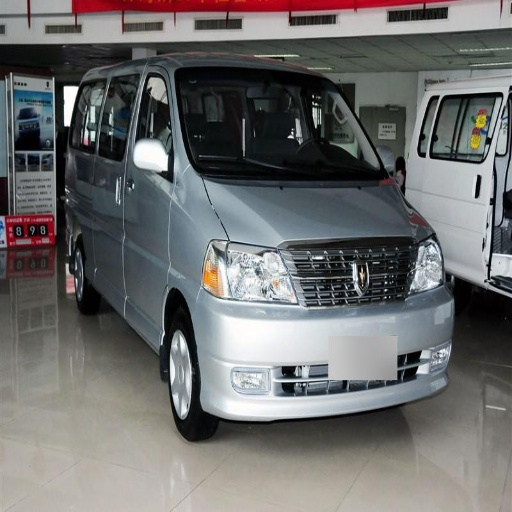front_bumper: (191, 239, 452, 421)
front_left_light: (406, 235, 448, 298)
front_right_door: (123, 70, 175, 326)
front_right_light: (204, 238, 300, 305)
hood: (206, 177, 421, 296)
